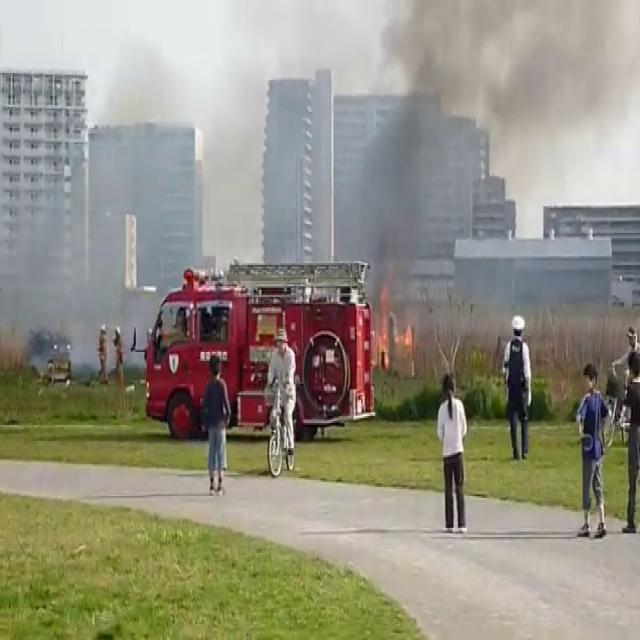Smoke: (9, 41, 339, 356), (357, 0, 640, 331)
